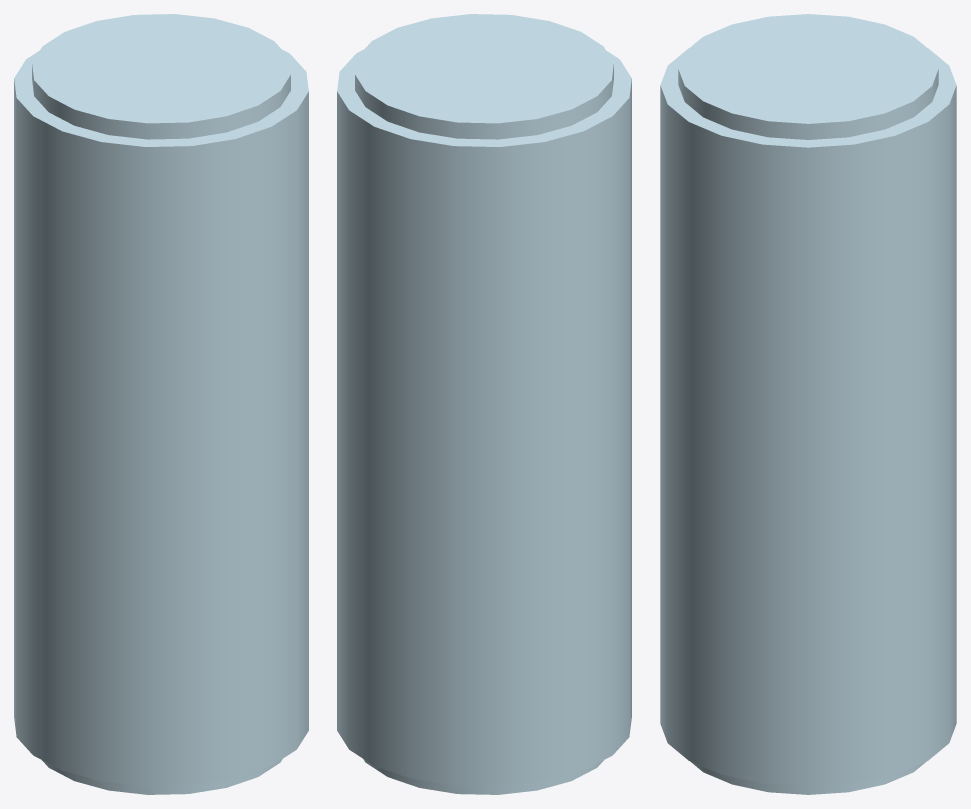
File: nitrous_bottle.glb
3 views of the same model, side by side, from view 1: azimuth 30°, elevation 25°; view 2: azimuth 150°, elevation 25°; view 3: azimuth 270°, elevation 25° (orthographic).
Parts seen in each view (by area): view 1: nitrous_bottle; view 2: nitrous_bottle; view 3: nitrous_bottle.
Boxes of the visible parts, <box> form: nitrous_bottle: <box>14,14,308,794</box>; nitrous_bottle: <box>337,14,631,794</box>; nitrous_bottle: <box>660,14,956,794</box>.
Bounding box in the file's own units: 0.22 × 0.55 × 0.22.
